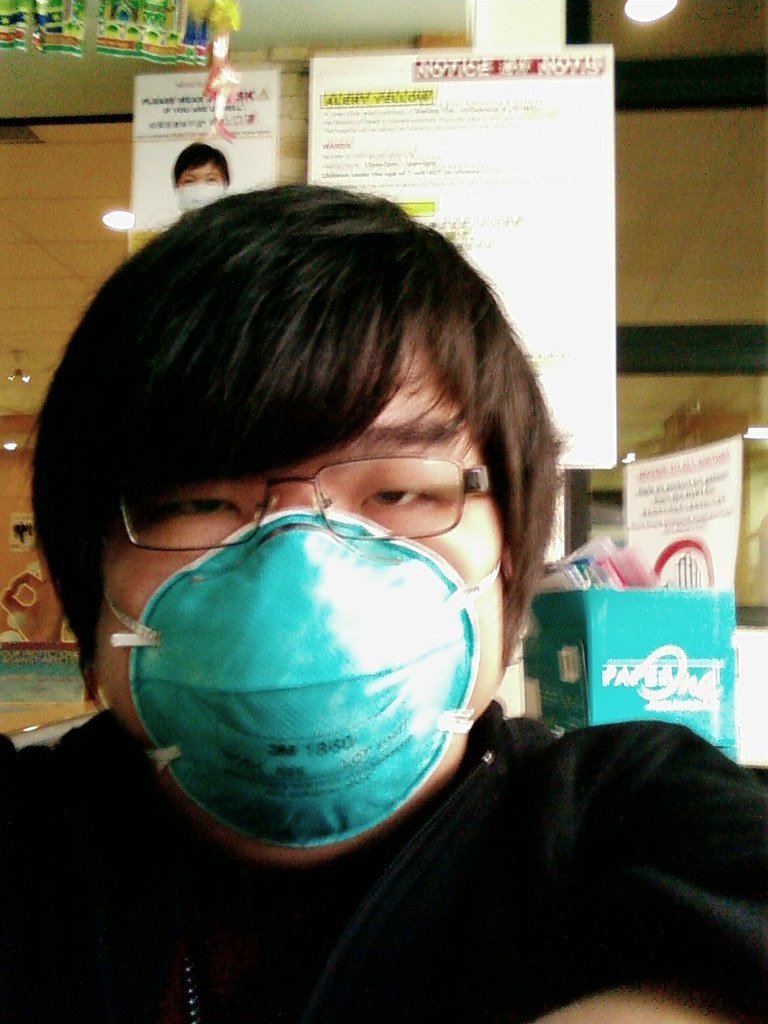n95: (113, 500, 498, 849)
